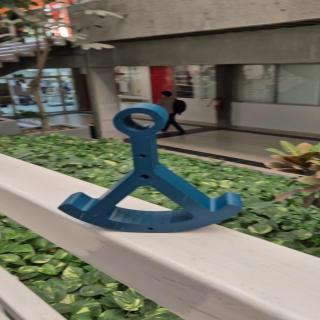haptic: (57, 102, 243, 234)
